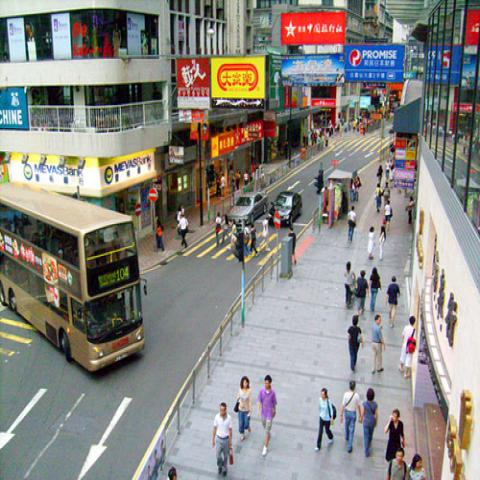bus: (1, 181, 149, 373)
car: (228, 192, 269, 226), (267, 190, 304, 227)
